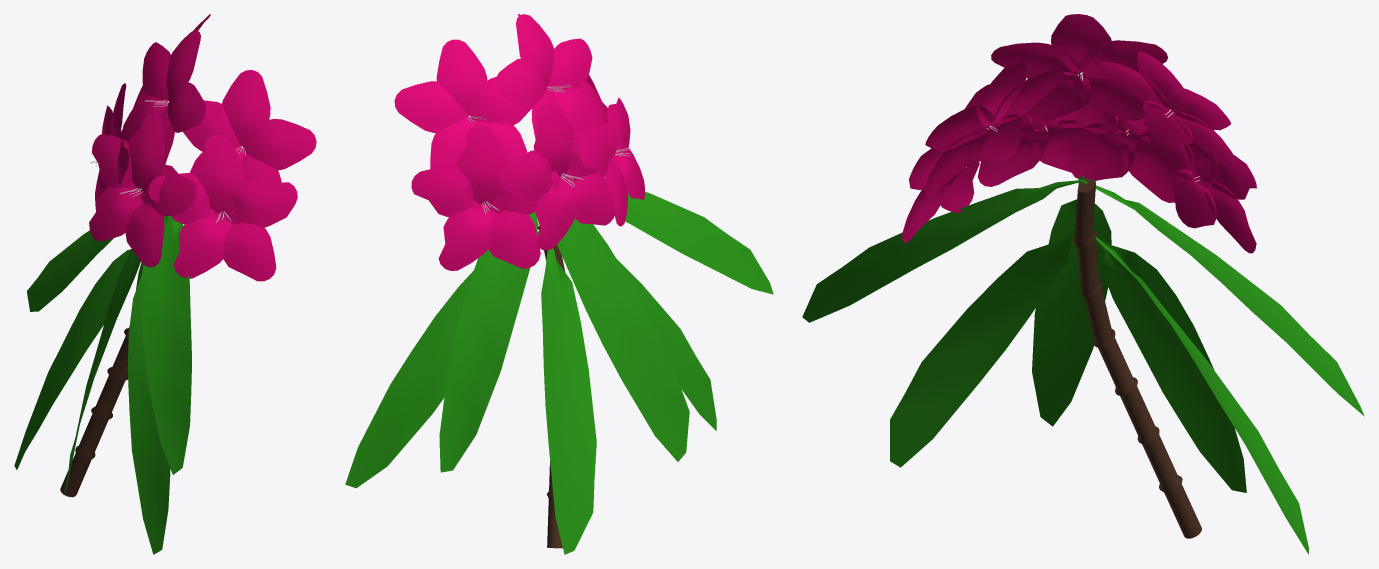
Rendered from Shakunage.fbx.
3 views of the same model, side by side, from view 1: azimuth 30°, elevation 25°; view 2: azimuth 150°, elevation 25°; view 3: azimuth 270°, elevation 25° (orthographic). The views are drawn at different scales.
Parts seen in each view (by area): view 1: pPlane19, pPlane1 (×5), pPlane20, pPlane5 (×4), pPlane4 (×3), pPlane3 (×4), pPlane21, Dendorobium:pCylinder2, pPlane17, pPlane18, pPlane9, pPlane6 (+3 smaller); view 2: pPlane14, pPlane21, pPlane18, pPlane3 (×5), pPlane22, pPlane5 (×5), pPlane4 (×4), pPlane1 (×5), pPlane19, pPlane20, pPlane16, pPlane8 (+4 smaller); view 3: pPlane20, pPlane5 (×7), pPlane21, pPlane4 (×7), pPlane19, pPlane14, pPlane1 (×6), Dendorobium:pCylinder2, pPlane3 (×4), pPlane18, pPlane22, pPlane2 (+2 smaller).
Boxes of the visible parts, x1,y1,x2,y2 form: pPlane19: [141, 215, 191, 474]; pPlane1 (×5): [117, 82, 316, 227]; pPlane20: [127, 275, 170, 554]; pPlane5 (×4): [125, 108, 281, 281]; pPlane4 (×3): [89, 95, 231, 278]; pPlane3 (×4): [92, 42, 241, 224]; pPlane21: [14, 249, 131, 469]; Dendorobium:pCylinder2: [60, 326, 129, 497]; pPlane17: [194, 134, 245, 215]; pPlane18: [27, 230, 113, 311]; pPlane9: [222, 70, 270, 146]; pPlane6: [128, 112, 164, 192]; pPlane14: [557, 218, 689, 461]; pPlane21: [541, 248, 596, 554]; pPlane18: [439, 212, 538, 472]; pPlane3 (×5): [394, 58, 608, 216]; pPlane22: [345, 231, 538, 488]; pPlane5 (×5): [474, 88, 644, 268]; pPlane4 (×4): [430, 117, 627, 270]; pPlane1 (×5): [469, 38, 630, 214]; pPlane19: [625, 191, 773, 294]; pPlane20: [617, 259, 716, 430]; pPlane16: [456, 125, 507, 205]; pPlane8: [436, 39, 487, 115]; pPlane20: [890, 226, 1075, 467]; pPlane5 (×7): [902, 72, 1216, 242]; pPlane21: [1093, 228, 1246, 492]; pPlane4 (×7): [939, 70, 1256, 253]; pPlane19: [802, 179, 1091, 322]; pPlane14: [1032, 176, 1111, 426]; pPlane1 (×6): [909, 42, 1198, 189]; Dendorobium:pCylinder2: [1073, 179, 1201, 538]; pPlane3 (×4): [992, 40, 1256, 199]; pPlane18: [1073, 176, 1364, 416]; pPlane22: [1095, 237, 1309, 554]; pPlane2: [1051, 14, 1112, 72].
Size of the model in its own units: 158 by 318 by 285.
